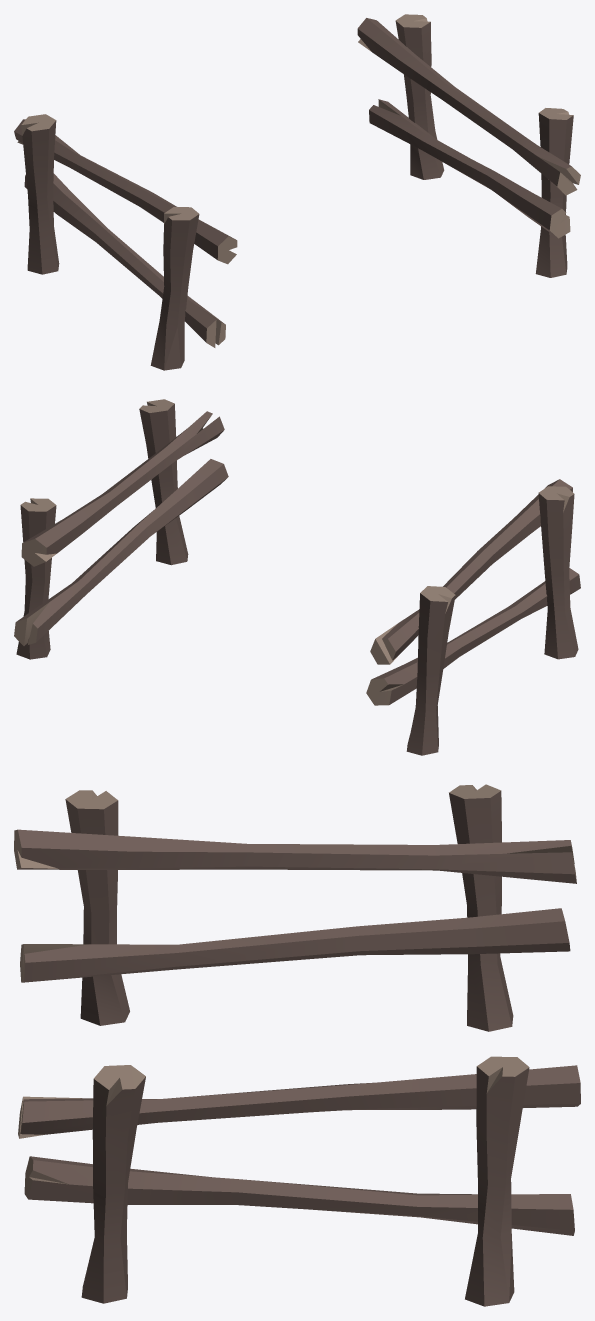
The model's file is fence.glb.
3 views of the same model, one above another, from view 1: azimuth 30°, elevation 25°; view 2: azimuth 150°, elevation 25°; view 3: azimuth 270°, elevation 25° (orthographic). The views are drawn at different scales.
Visible parts, largest first — view 1: fence_1.003_0; view 2: fence_1.003_0; view 3: fence_1.003_0.
Boxes of the visible parts, x1,y1,x2,y2 form: fence_1.003_0: [14, 14, 580, 370]; fence_1.003_0: [14, 399, 580, 755]; fence_1.003_0: [14, 784, 580, 1306].
Bounding box in the file's own units: 2.36 × 0.8099 × 1.85.
Materials: 1 (1 with a texture image).
